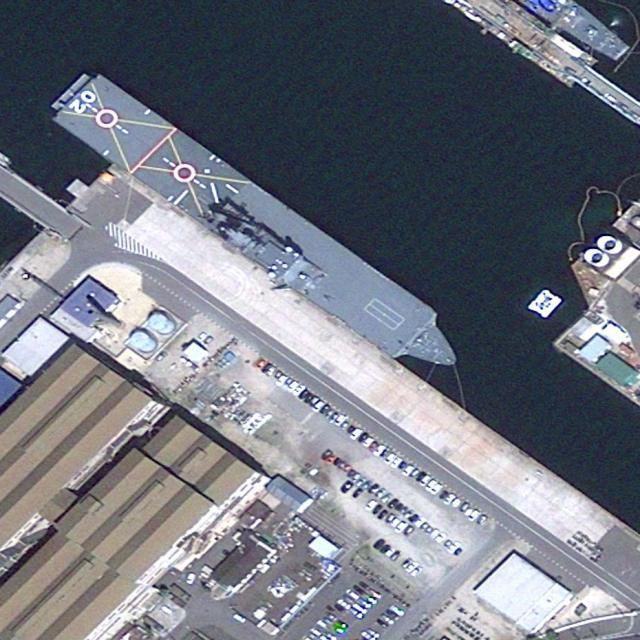Landing: (45, 61, 474, 387)
